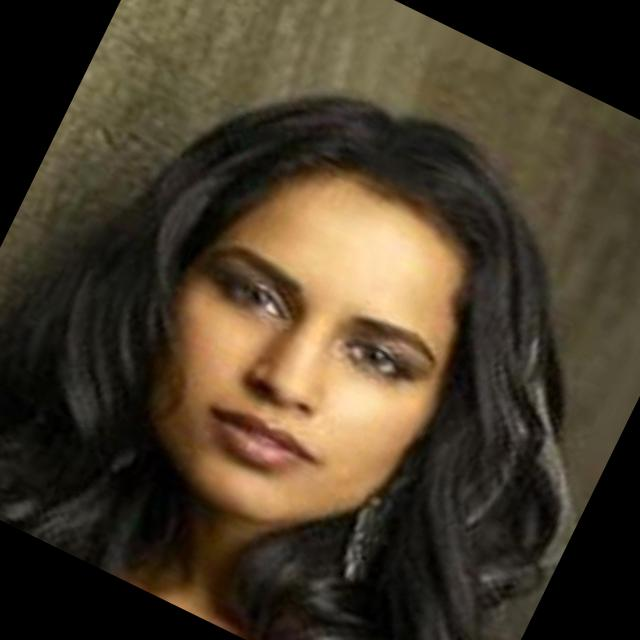bareface: (68, 57, 579, 580)
